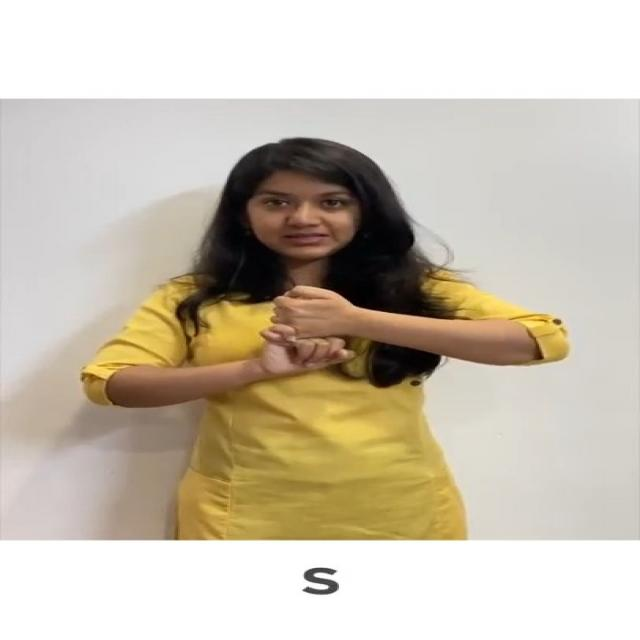S: (237, 278, 380, 385)
